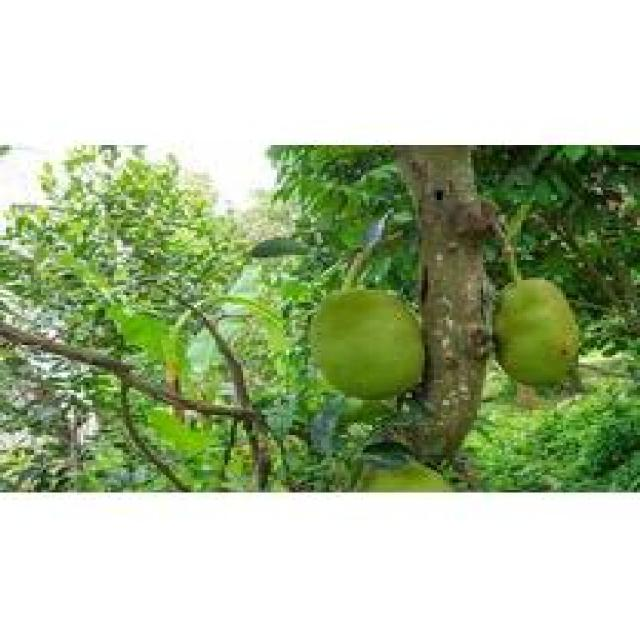Fruit: (292, 270, 437, 415)
